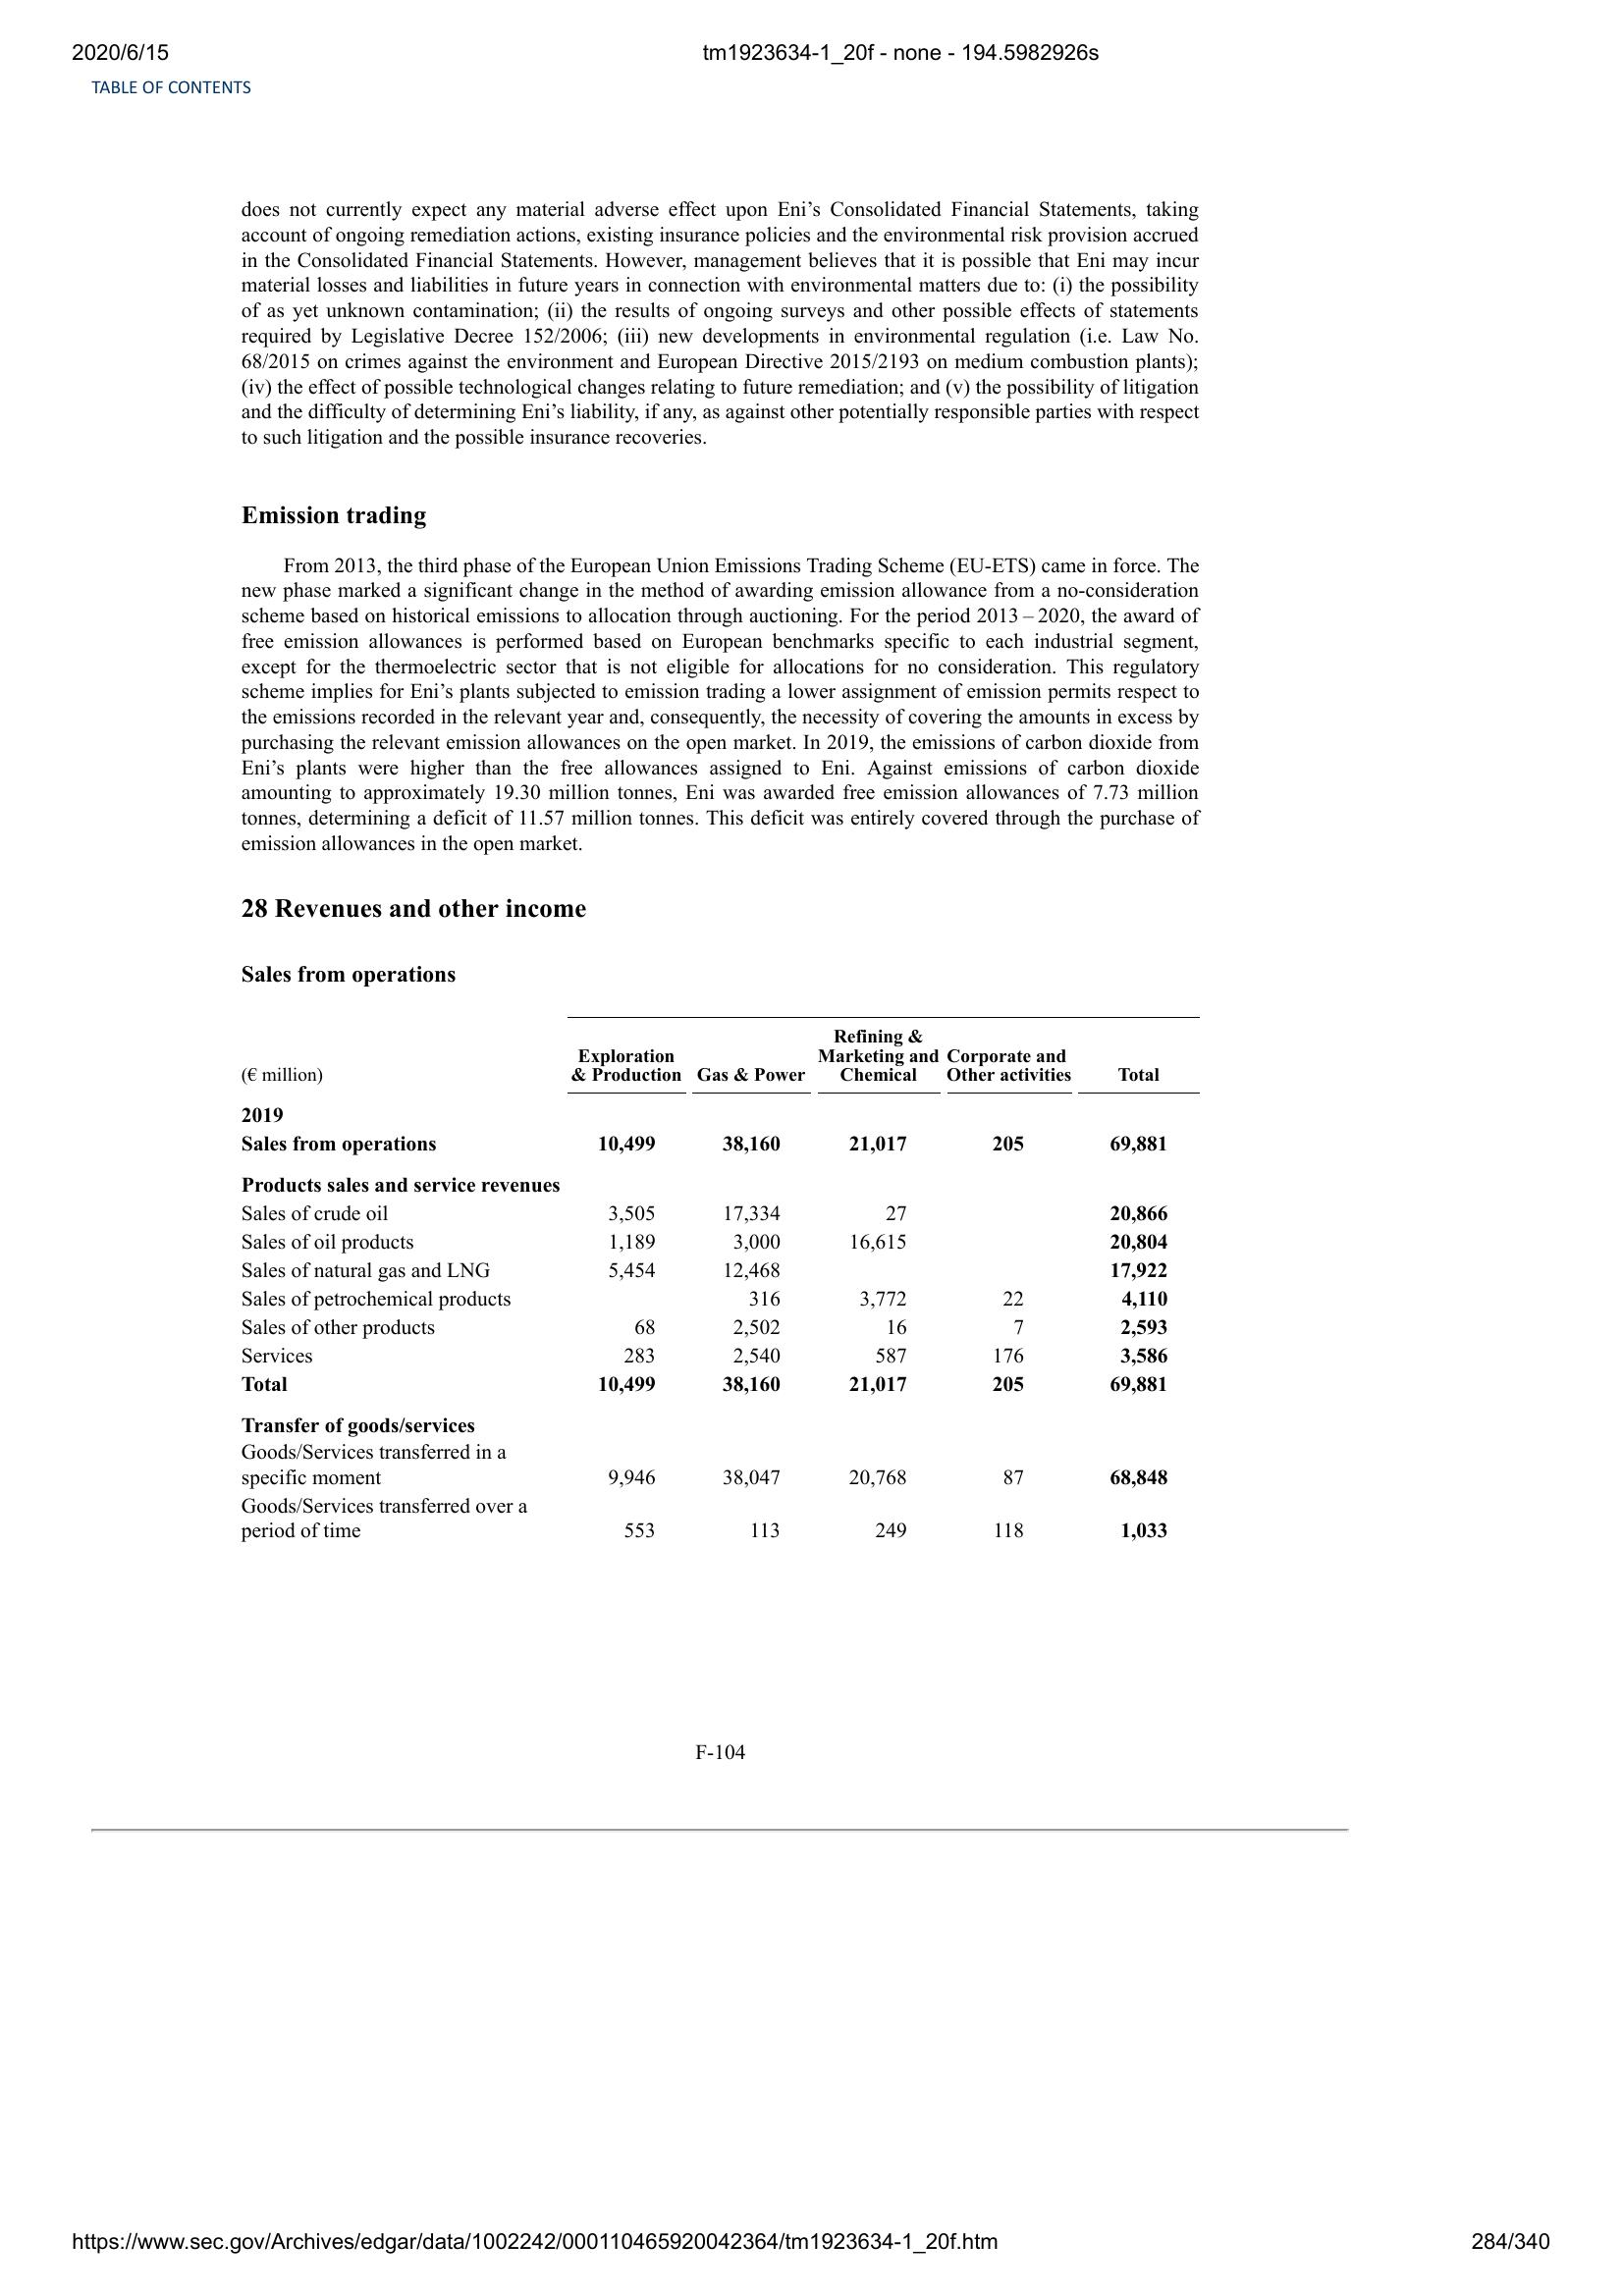table: (242, 1008, 1205, 1552)
